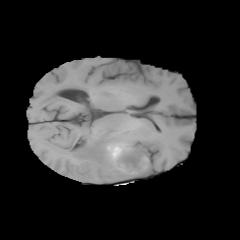glioma: (71, 129, 150, 175)
